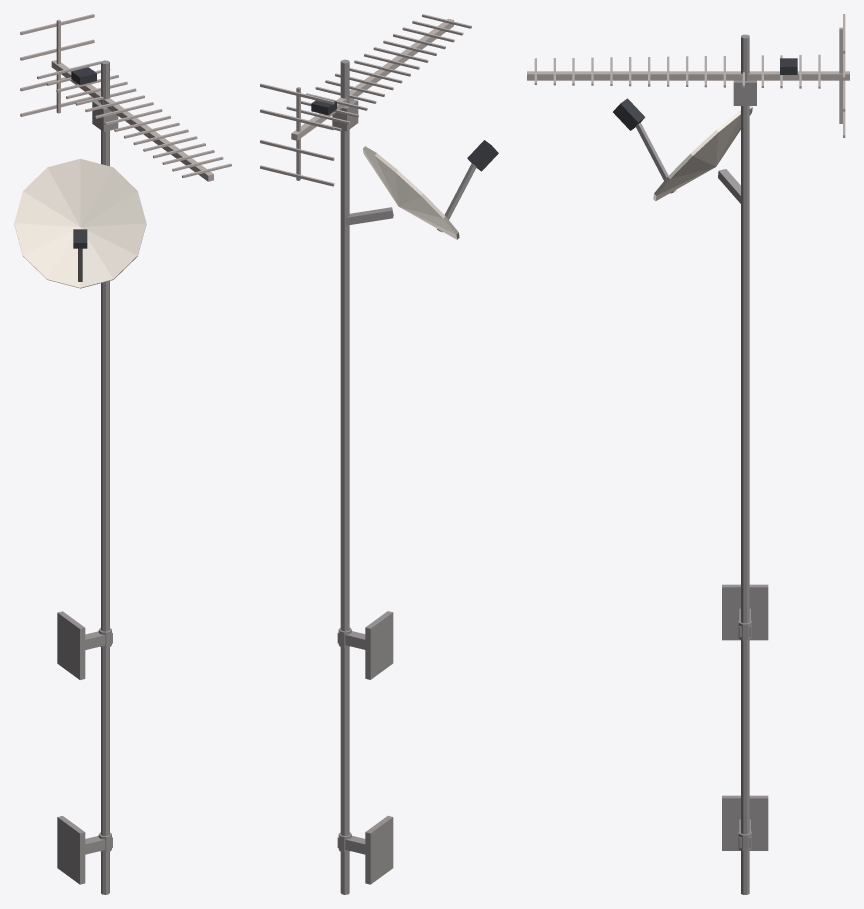
File: SM_Fixture_AntennaYagi_R_01.gltf
3 views of the same model, side by side, from view 1: azimuth 30°, elevation 25°; view 2: azimuth 150°, elevation 25°; view 3: azimuth 270°, elevation 25° (orthographic). The views are drawn at different scales.
Parts seen in each view (by area): view 1: SM_Fixture_AntennaYagi_R_01; view 2: SM_Fixture_AntennaYagi_R_01; view 3: SM_Fixture_AntennaYagi_R_01.
Part boxes in pixels (bbox=[...]): SM_Fixture_AntennaYagi_R_01: bbox=[14, 14, 231, 894]; SM_Fixture_AntennaYagi_R_01: bbox=[260, 14, 498, 894]; SM_Fixture_AntennaYagi_R_01: bbox=[527, 14, 849, 894].
Bounding box in the file's own units: 0.5508 × 3.28 × 1.11.
Materials: 1 (1 with a texture image).
